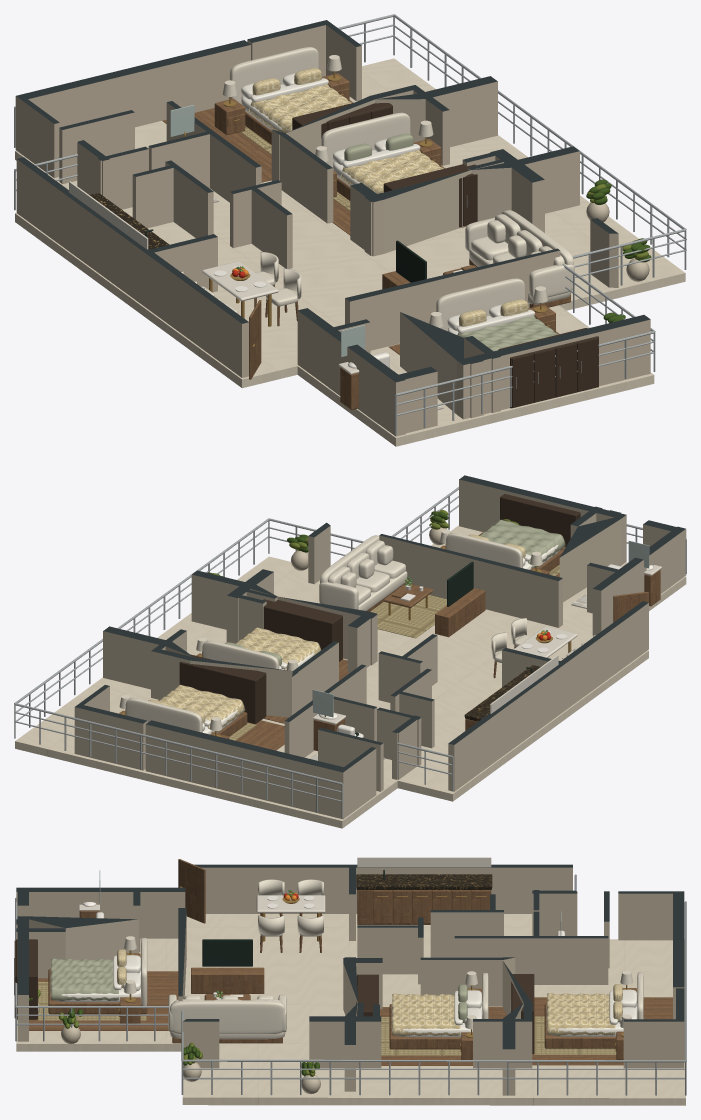
3 renders of one model, top to bottom at view 1: azimuth 30°, elevation 25°; view 2: azimuth 150°, elevation 25°; view 3: azimuth 270°, elevation 25°, orthographic. The views are drawn at different scales.
Parts seen in each view (by area): view 1: Source-traced internal and perimeter walls • Wall, Continuous apartment foundation, Soft jacquard duvet with folds, Padded headboard, Padded headboard.001, Padded headboard.002, Soft jacquard duvet with folds.001, Soft jacquard duvet with folds.002, Full bedroom wood flooring, Dining top, Rounded armrest, Walnut wardrobe door.008 (+16 smaller); view 2: Source-traced internal and perimeter walls • Wall, Continuous apartment foundation, Fitted dark wardrobe, Fitted dark wardrobe.001, Fitted dark wardrobe.002, Living patterned carpet, Soft jacquard duvet with folds.002, Soft jacquard duvet with folds, Soft jacquard duvet with folds.001, Padded headboard.002, Padded headboard, Walnut media console (+15 smaller); view 3: Source-traced internal and perimeter walls • Wall, Continuous apartment foundation, Sofa back, Soft jacquard duvet with folds, Soft jacquard duvet with folds.001, Soft jacquard duvet with folds.002, Full bedroom wood flooring.002, Deep green kitchen stone, Walnut media console, Full bedroom wood flooring, Backsplash, Horizontal silver balcony rail.010 (+32 smaller).
Boxes of the visible parts, x1,y1,x2,y2 form: Source-traced internal and perimeter walls • Wall: (15, 20, 650, 436); Continuous apartment foundation: (15, 58, 685, 446); Soft jacquard duvet with folds: (248, 84, 351, 133); Padded headboard: (229, 47, 318, 103); Padded headboard.001: (321, 112, 410, 167); Padded headboard.002: (436, 278, 525, 331); Soft jacquard duvet with folds.001: (340, 150, 443, 193); Soft jacquard duvet with folds.002: (457, 316, 558, 351); Full bedroom wood flooring: (162, 100, 353, 182); Dining top: (202, 261, 278, 301); Rounded armrest: (529, 264, 574, 298); Walnut wardrobe door.008: (577, 338, 598, 391); Source-traced internal and perimeter walls • Wall: (74, 475, 686, 819); Continuous apartment foundation: (15, 525, 686, 828); Fitted dark wardrobe: (179, 654, 266, 723); Fitted dark wardrobe.001: (263, 599, 342, 661); Fitted dark wardrobe.002: (500, 494, 580, 546); Living patterned carpet: (370, 595, 446, 638); Soft jacquard duvet with folds.002: (479, 519, 565, 568); Soft jacquard duvet with folds: (159, 684, 245, 733); Soft jacquard duvet with folds.001: (236, 627, 321, 669); Padded headboard.002: (446, 533, 522, 568); Padded headboard: (125, 698, 202, 732); Walnut media console: (435, 588, 485, 637); Source-traced internal and perimeter walls • Wall: (16, 864, 684, 1095); Continuous apartment foundation: (16, 914, 685, 1105); Sofa back: (170, 1000, 285, 1033); Soft jacquard duvet with folds: (547, 993, 615, 1035); Soft jacquard duvet with folds.001: (391, 993, 460, 1036); Soft jacquard duvet with folds.002: (50, 958, 118, 1000); Full bedroom wood flooring.002: (29, 971, 178, 1030); Deep green kitchen stone: (356, 874, 492, 888); Walnut media console: (191, 967, 264, 993); Full bedroom wood flooring: (532, 997, 672, 1065); Backsplash: (357, 857, 491, 867); Horizontal silver balcony rail.010: (182, 1077, 684, 1079).
Bounding box in the file's own units: 9.64 × 1.7 × 14.69.
26 materials, 6 textured.
